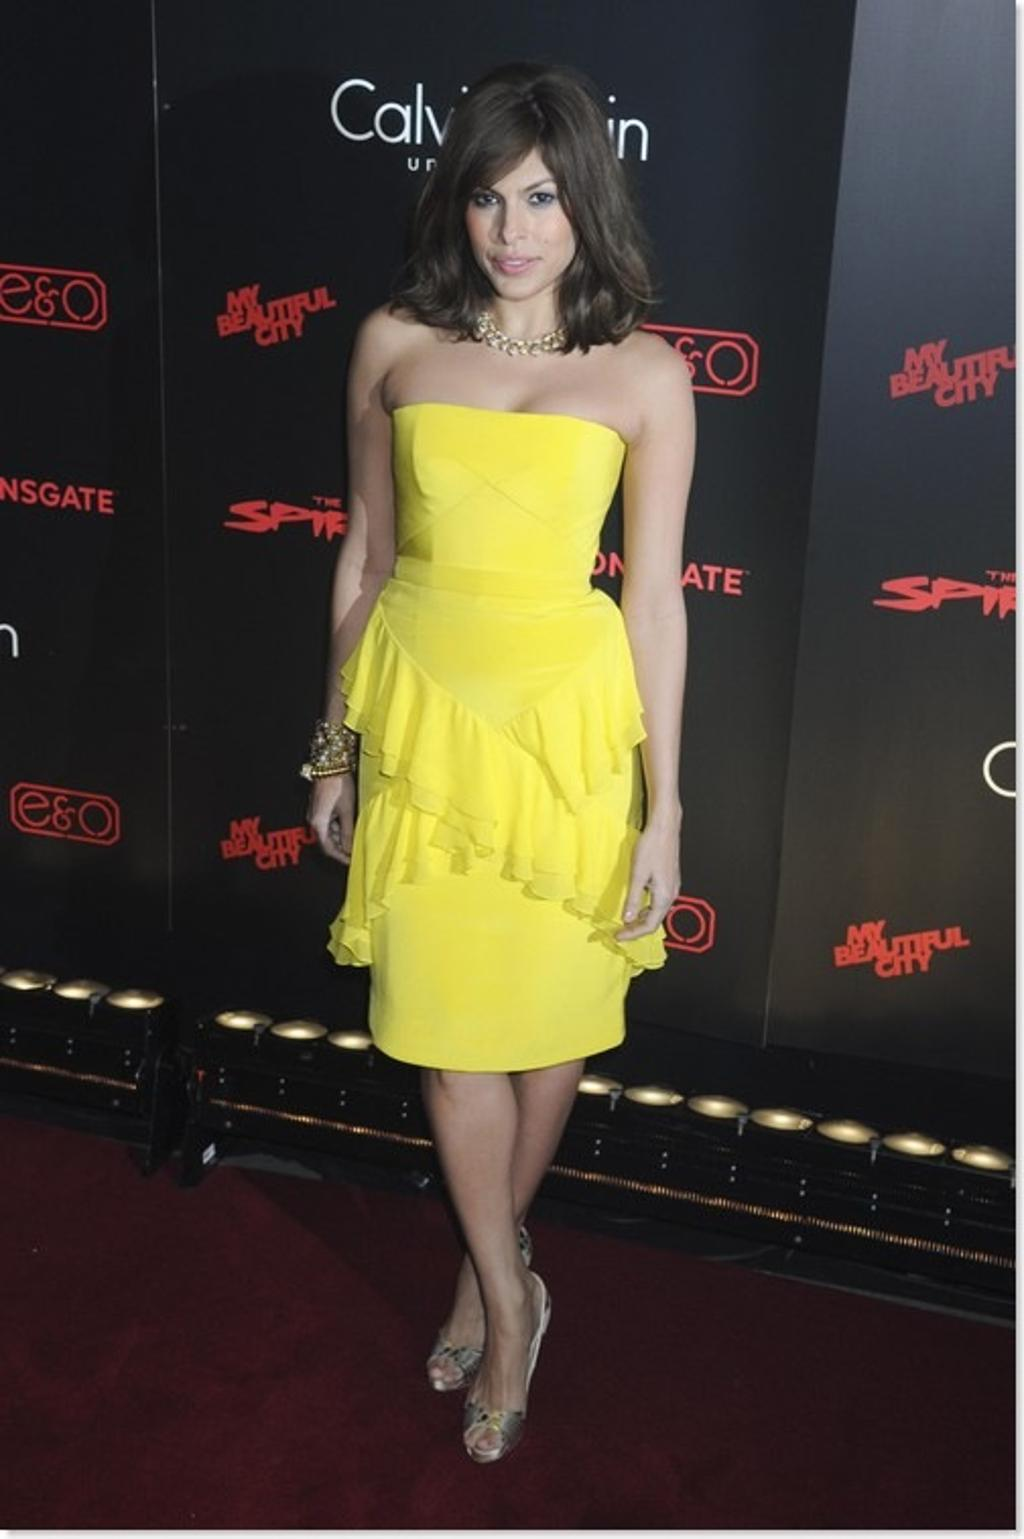face: (456, 141, 576, 294)
